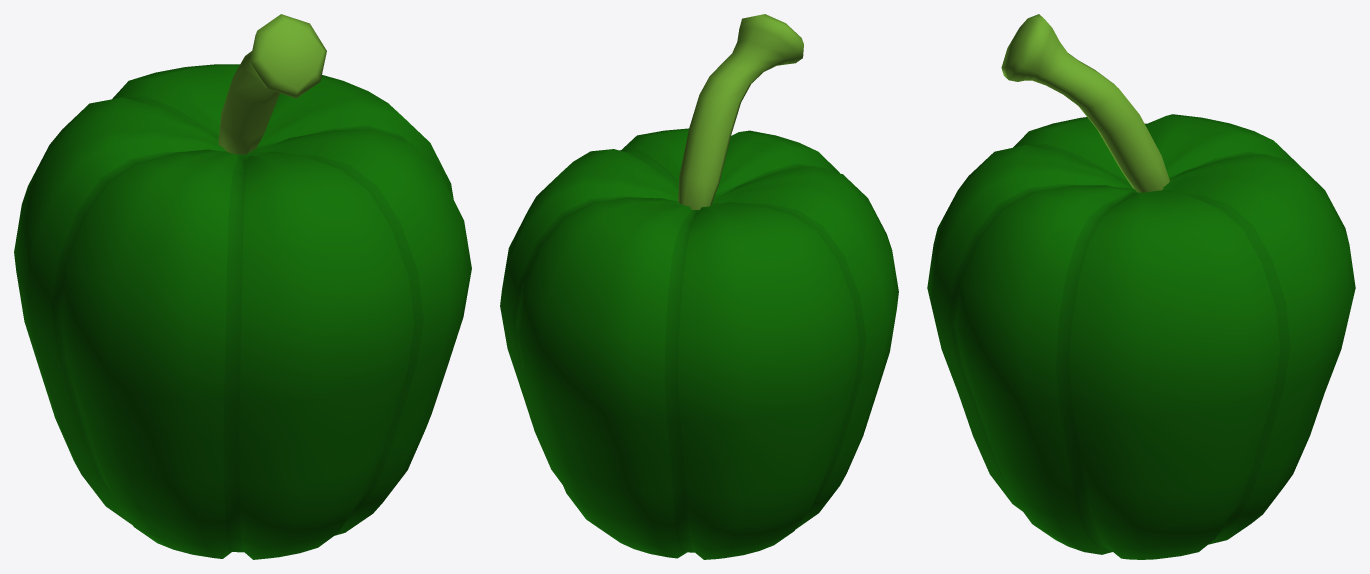
File: vegi2.fbx
3 renders of one model, left to right at view 1: azimuth 30°, elevation 25°; view 2: azimuth 150°, elevation 25°; view 3: azimuth 270°, elevation 25°, orthographic. The views are drawn at different scales.
Parts seen in each view (by area): view 1: Sphere; view 2: Sphere; view 3: Sphere.
Part boxes in pixels (bbox=[...]): Sphere: bbox=[14, 14, 471, 559]; Sphere: bbox=[500, 14, 898, 559]; Sphere: bbox=[927, 14, 1355, 559].
Size of the model in its own units: 219 by 303 by 230.
